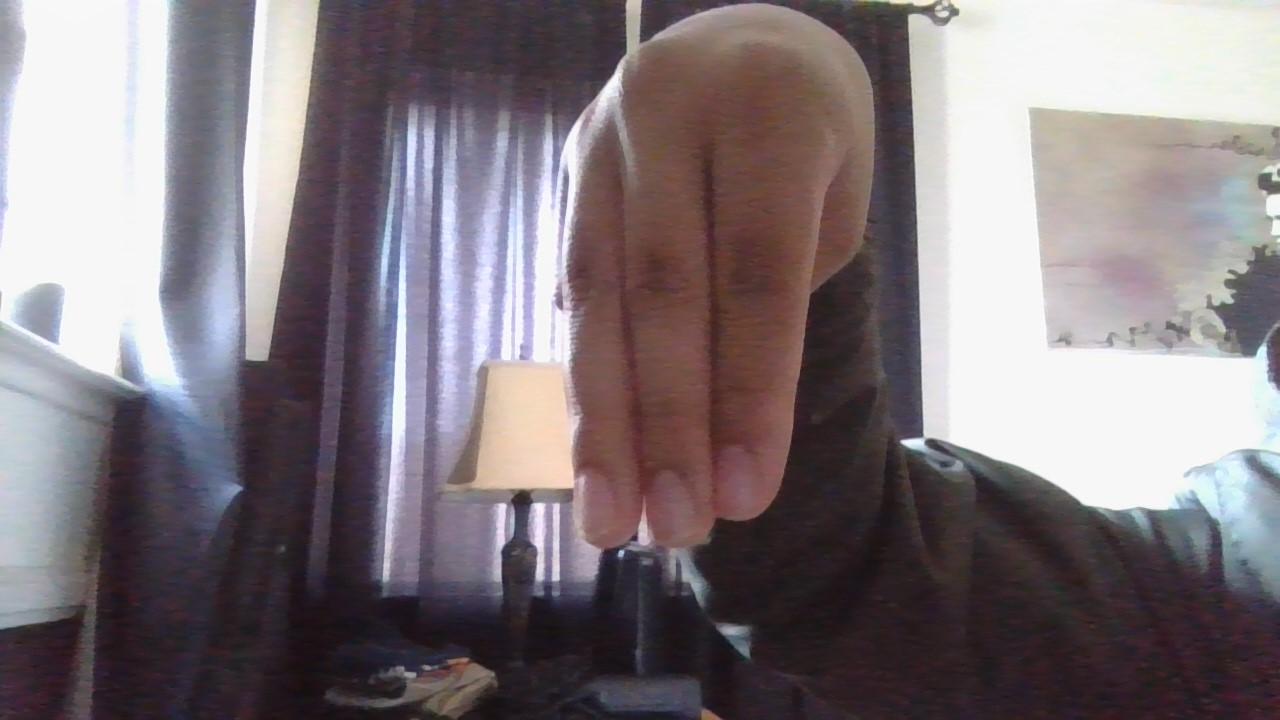m: (534, 1, 869, 542)
